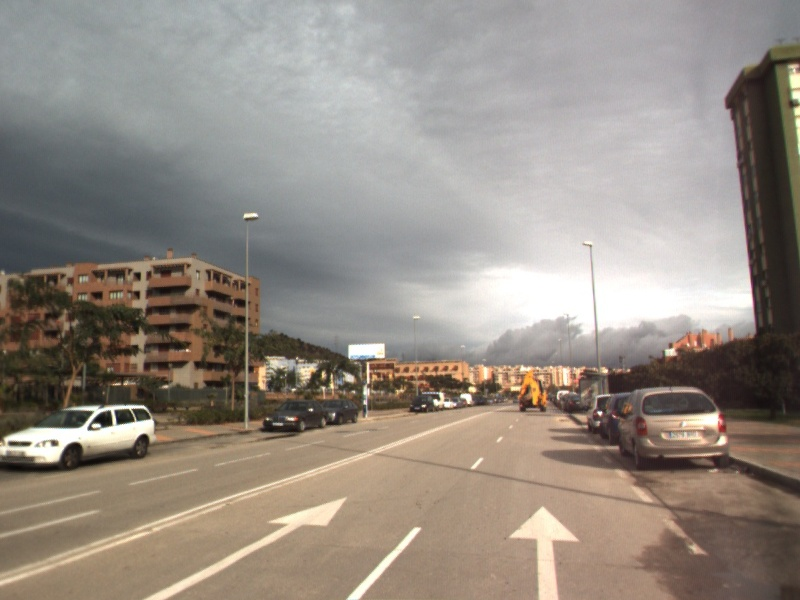STRAIGHT: (139, 495, 349, 600), (507, 504, 582, 600)
